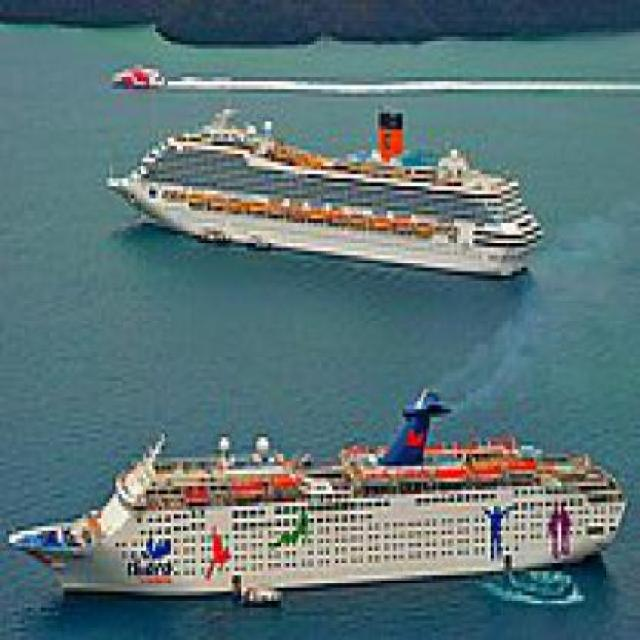cruise: (4, 381, 635, 609), (99, 90, 550, 284)
